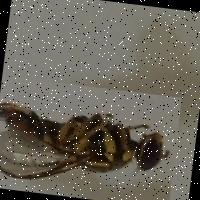Oriental-fruit-fly: (0, 75, 182, 200)
